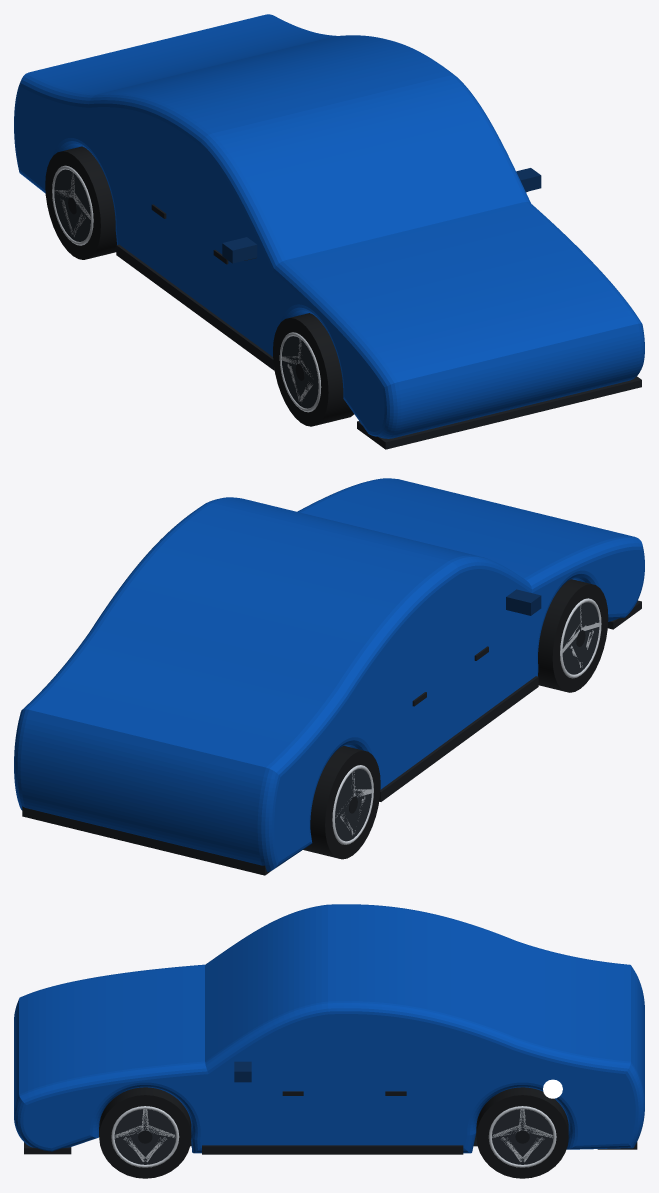
The model's file is voltsense-blue-ev.glb.
3 renders of one model, top to bottom at view 1: azimuth 30°, elevation 25°; view 2: azimuth 150°, elevation 25°; view 3: azimuth 270°, elevation 25°, orthographic. The views are drawn at different scales.
Parts seen in each view (by area): view 1: Body_Chassis_Sculpted, Tire_FL, Tire_RL, Body_Front_Splitter, Wheel_RL_Assembly, Wheel_FL_Assembly, Body_Aero_Skirt_Left, Body_Mirror_Left; view 2: Body_Chassis_Sculpted, Tire_RL, Tire_FL, Wheel_FL_Assembly, Wheel_RL_Assembly, Body_Rear_Diffuser, Body_Aero_Skirt_Left, Body_Mirror_Left; view 3: Body_Chassis_Sculpted, Tire_FR, Tire_RR, Wheel_FR_Assembly, Wheel_RR_Assembly, Body_Aero_Skirt_Right.
Boxes of the visible parts, x1=… form: Body_Chassis_Sculpted: x1=14, y1=14, x2=644, y2=438; Tire_FL: x1=273, y1=313, x2=354, y2=426; Tire_RL: x1=45, y1=146, x2=116, y2=259; Body_Front_Splitter: x1=357, y1=376, x2=641, y2=449; Wheel_RL_Assembly: x1=52, y1=165, x2=93, y2=245; Wheel_FL_Assembly: x1=279, y1=332, x2=321, y2=412; Body_Aero_Skirt_Left: x1=116, y1=244, x2=274, y2=370; Body_Mirror_Left: x1=222, y1=237, x2=257, y2=263; Body_Chassis_Sculpted: x1=14, y1=478, x2=644, y2=871; Tire_RL: x1=303, y1=746, x2=380, y2=859; Tire_FL: x1=538, y1=579, x2=608, y2=692; Wheel_FL_Assembly: x1=560, y1=598, x2=601, y2=678; Wheel_RL_Assembly: x1=332, y1=765, x2=373, y2=844; Body_Rear_Diffuser: x1=22, y1=806, x2=270, y2=875; Body_Aero_Skirt_Left: x1=379, y1=676, x2=538, y2=801; Body_Mirror_Left: x1=506, y1=589, x2=541, y2=615; Body_Chassis_Sculpted: x1=14, y1=904, x2=644, y2=1153; Tire_FR: x1=99, y1=1087, x2=191, y2=1178; Tire_RR: x1=476, y1=1087, x2=568, y2=1178; Wheel_FR_Assembly: x1=111, y1=1106, x2=179, y2=1167; Wheel_RR_Assembly: x1=488, y1=1106, x2=556, y2=1167; Body_Aero_Skirt_Right: x1=202, y1=1145, x2=463, y2=1154.
Size of the model in its own units: 2.24 by 1.41 by 4.78.
